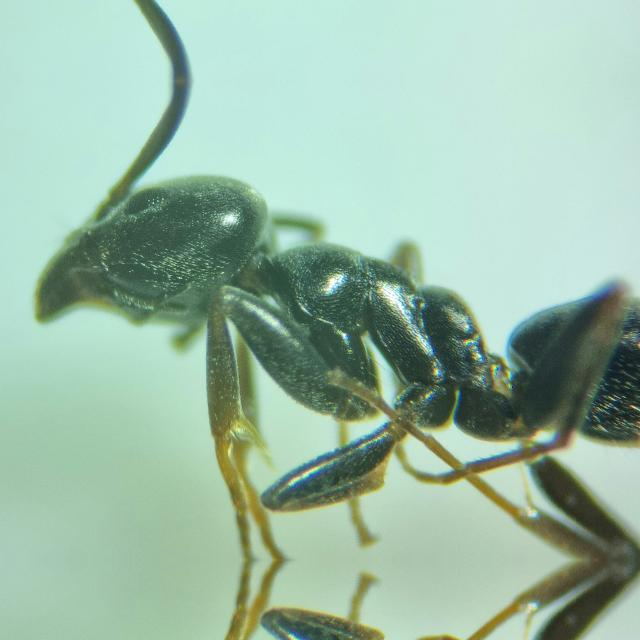Tapinoma: (71, 146, 639, 558)
